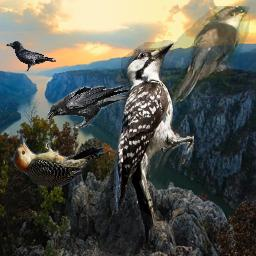Crow: (46, 85, 134, 128), (6, 41, 56, 72)
Cuckoo: (164, 6, 250, 106)
Woodpecker: (110, 38, 194, 251), (6, 130, 110, 189)
